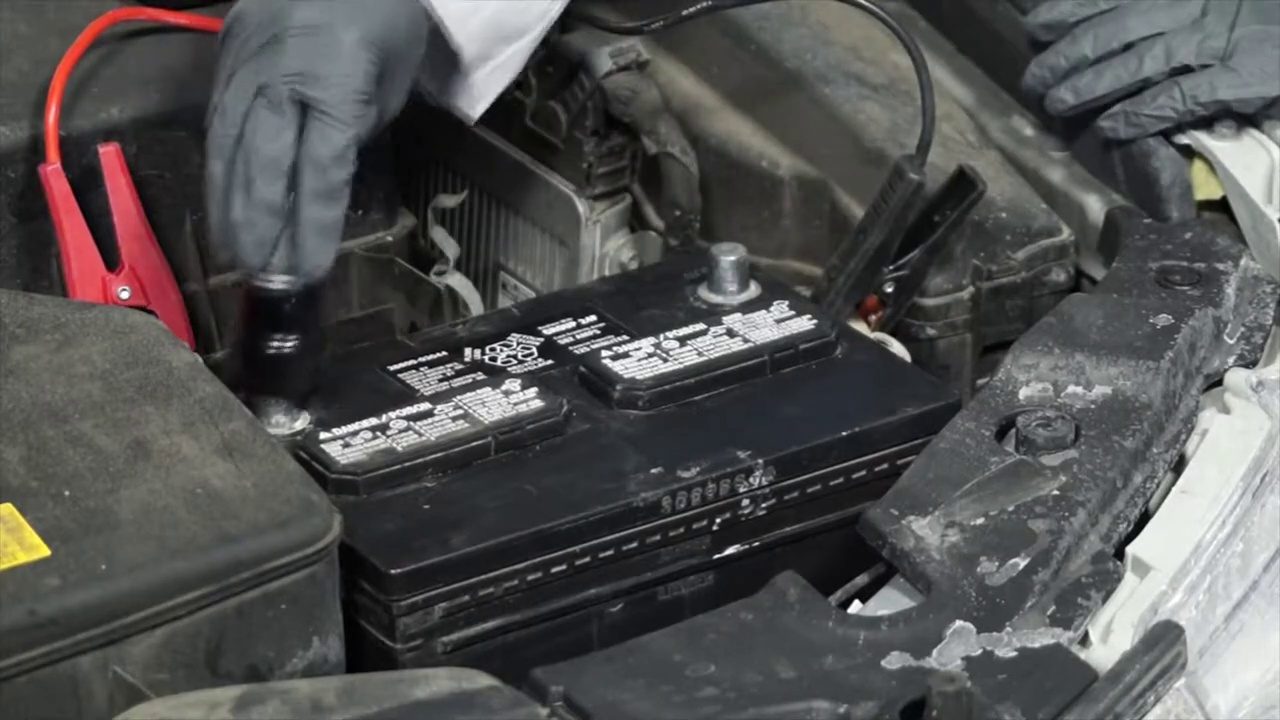battery: (234, 242, 973, 504)
neg_disconnected: (683, 201, 779, 328)
pos_disconnected: (58, 168, 325, 404)
